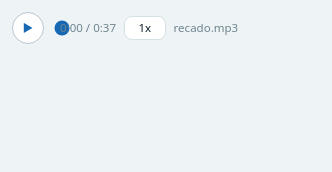
Test case: 30/31. player de áudio › 31. a velocidade cicla 1x → 1.5x → 2x → 1x e chega ao elemento
This screenshot has width=332, height=172.
Click the button named "velocidade": {"x": 145, "y": 28} [124,16,166,40]
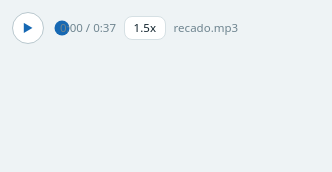
Now the button named "velocidade" reads "1.5x"
Click the button named "velocidade": {"x": 145, "y": 28} [124,16,166,40]
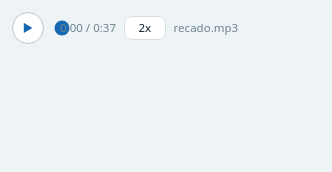
Now the button named "velocidade" reads "2x"
Click the button named "velocidade": {"x": 145, "y": 28} [124,16,166,40]
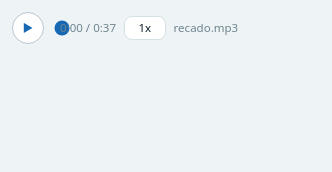
Now the button named "velocidade" reads "1x", box [124,16,166,40]
